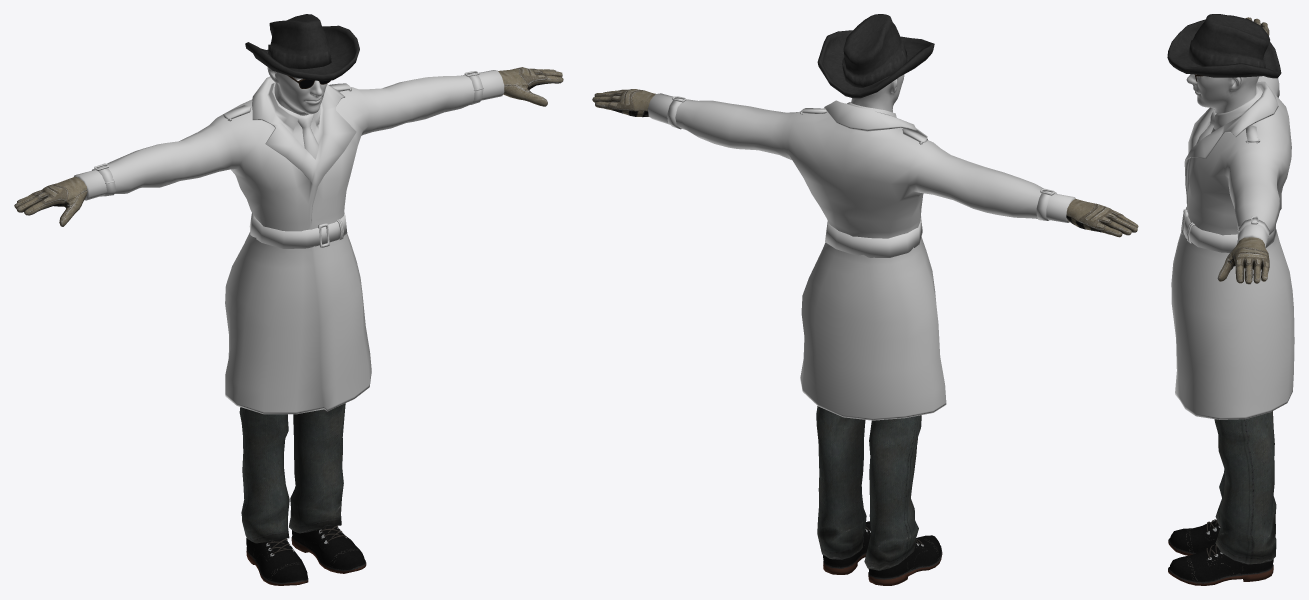
Rendered from Mafia Character.obj.
3 renders of one model, left to right at view 1: azimuth 30°, elevation 25°; view 2: azimuth 150°, elevation 25°; view 3: azimuth 270°, elevation 25°, orthographic.
Parts seen in each view (by area): view 1: mafia Mafia_Character:Tops, mafia Mafia_Character:Bottoms, mafia Mafia_Character:Hats, mafia Mafia_Character:Shoes, mafia Mafia_Character:Gloves, mafia Mafia_Character:Body; view 2: mafia Mafia_Character:Tops, mafia Mafia_Character:Bottoms, mafia Mafia_Character:Hats, mafia Mafia_Character:Gloves, mafia Mafia_Character:Shoes, mafia Mafia_Character:Body; view 3: mafia Mafia_Character:Tops, mafia Mafia_Character:Bottoms, mafia Mafia_Character:Hats, mafia Mafia_Character:Shoes, mafia Mafia_Character:Body, mafia Mafia_Character:Gloves.
Boxes of the visible parts, x1,y1,x2,y2 form: mafia Mafia_Character:Tops: (74,70,504,414); mafia Mafia_Character:Bottoms: (239,403,345,543); mafia Mafia_Character:Hats: (245,14,359,81); mafia Mafia_Character:Shoes: (246,525,366,585); mafia Mafia_Character:Gloves: (14,67,563,226); mafia Mafia_Character:Body: (267,67,326,115); mafia Mafia_Character:Tops: (648,93,1075,420); mafia Mafia_Character:Bottoms: (816,406,921,570); mafia Mafia_Character:Hats: (817,14,934,98); mafia Mafia_Character:Gloves: (592,89,1138,237); mafia Mafia_Character:Shoes: (823,521,942,585); mafia Mafia_Character:Body: (851,74,904,112); mafia Mafia_Character:Tops: (1171,76,1294,419); mafia Mafia_Character:Bottoms: (1214,411,1276,564); mafia Mafia_Character:Hats: (1167,14,1281,78); mafia Mafia_Character:Shoes: (1168,519,1273,585); mafia Mafia_Character:Body: (1186,74,1259,113); mafia Mafia_Character:Gloves: (1217,17,1269,284).
Bounding box in the file's own units: 194 × 186 × 39.17.
